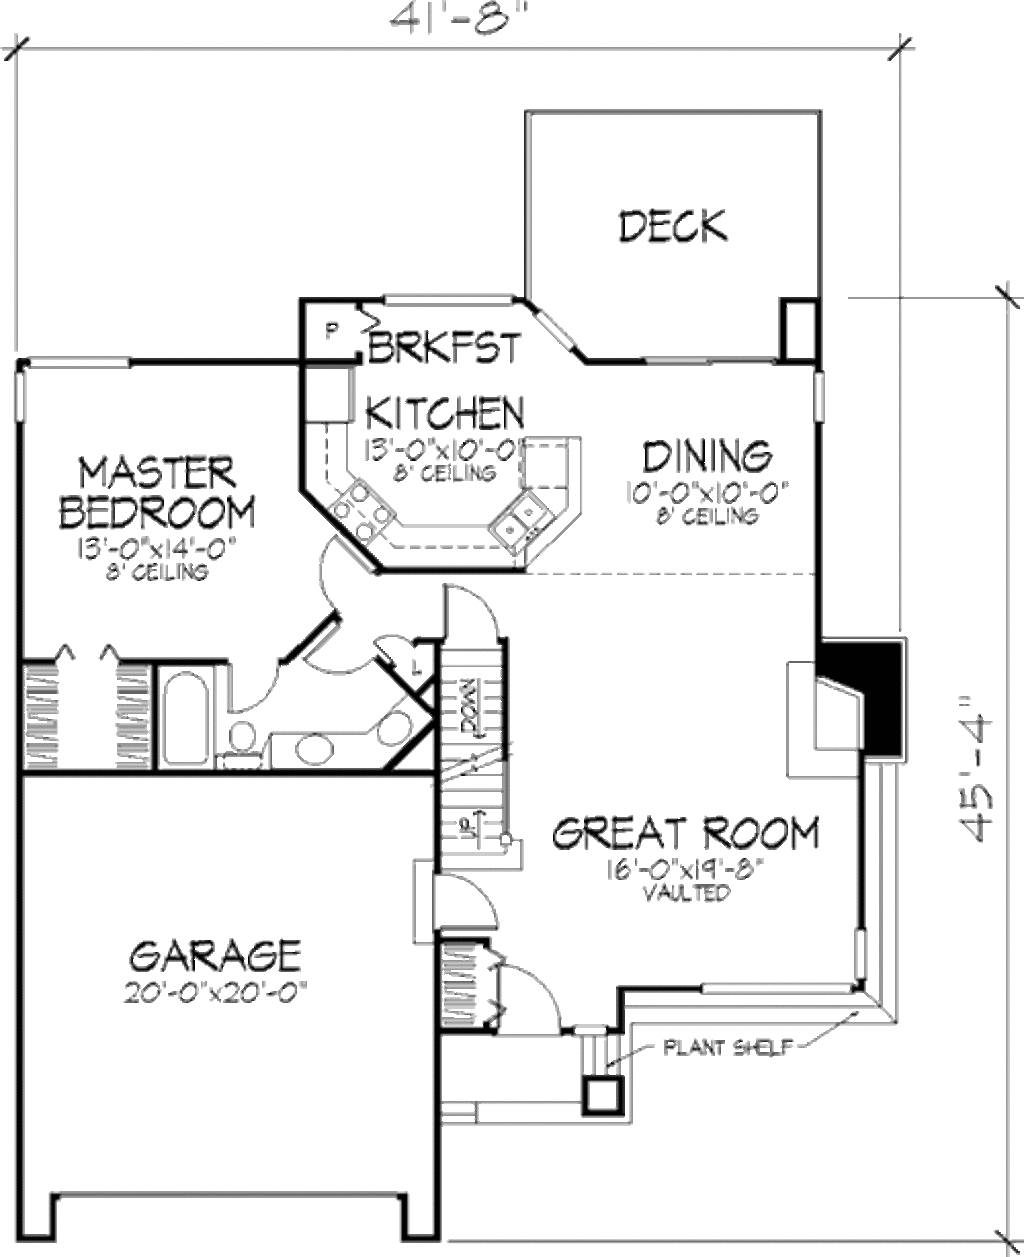door: (463, 936, 575, 1038), (416, 869, 510, 944), (430, 575, 506, 644), (310, 538, 379, 613), (285, 620, 377, 675), (224, 654, 283, 711), (361, 618, 416, 666)
large_sink: (214, 705, 273, 779)
small_sink: (267, 705, 424, 768)
stairs: (434, 640, 538, 865)
tub: (154, 656, 210, 770)
twin_sink: (444, 481, 575, 564)
window: (373, 279, 524, 311), (693, 969, 853, 999), (18, 338, 144, 373), (644, 346, 777, 369), (806, 364, 828, 430)
